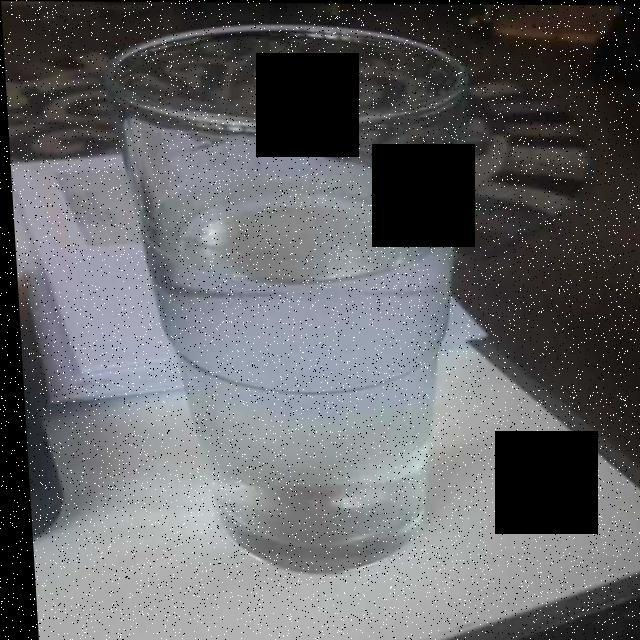water: (132, 110, 445, 524)
